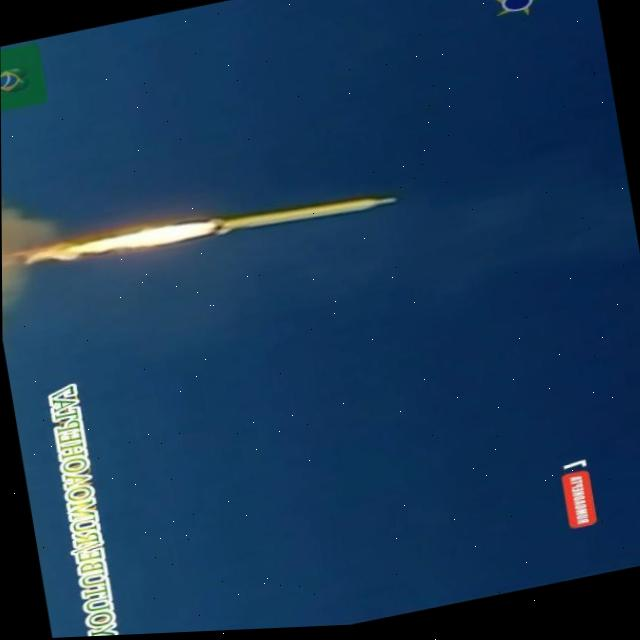missile: (205, 182, 399, 247)
